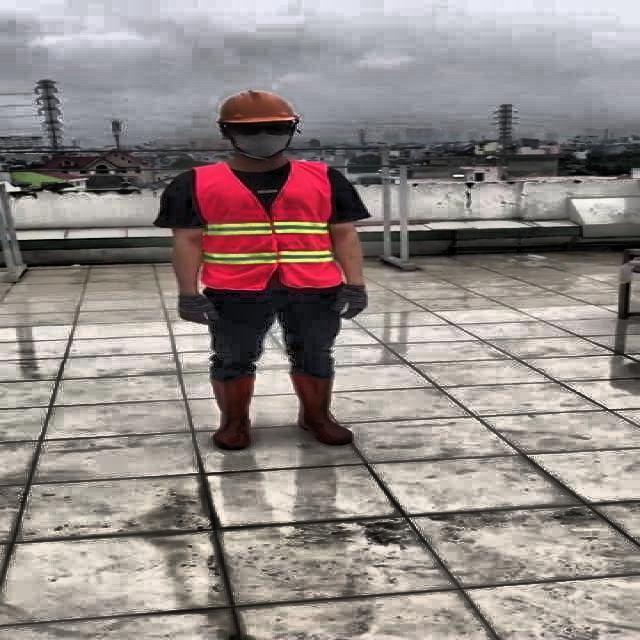safety_helmet: (213, 88, 299, 127)
safety_jacket: (192, 164, 348, 288)
